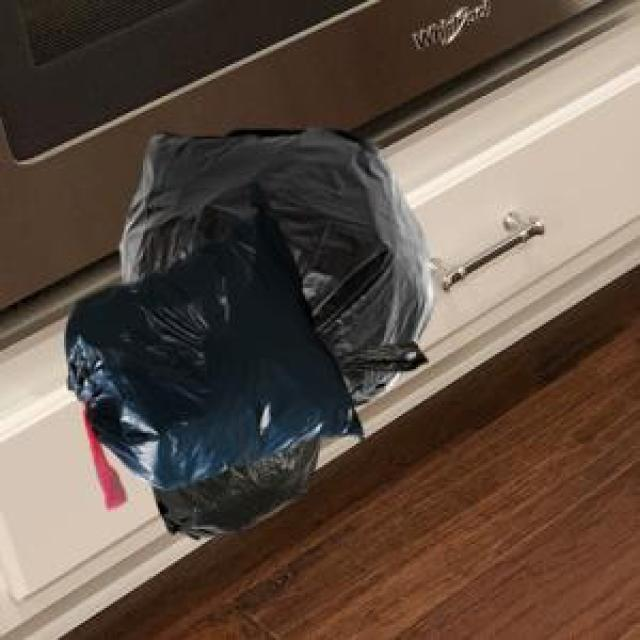garbage_bag: (60, 209, 365, 537)
